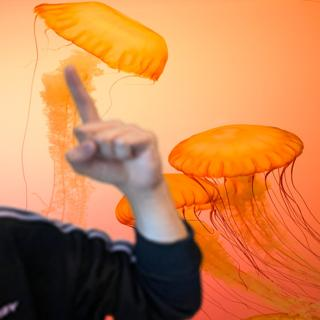IRRITATED: (56, 63, 167, 190)
